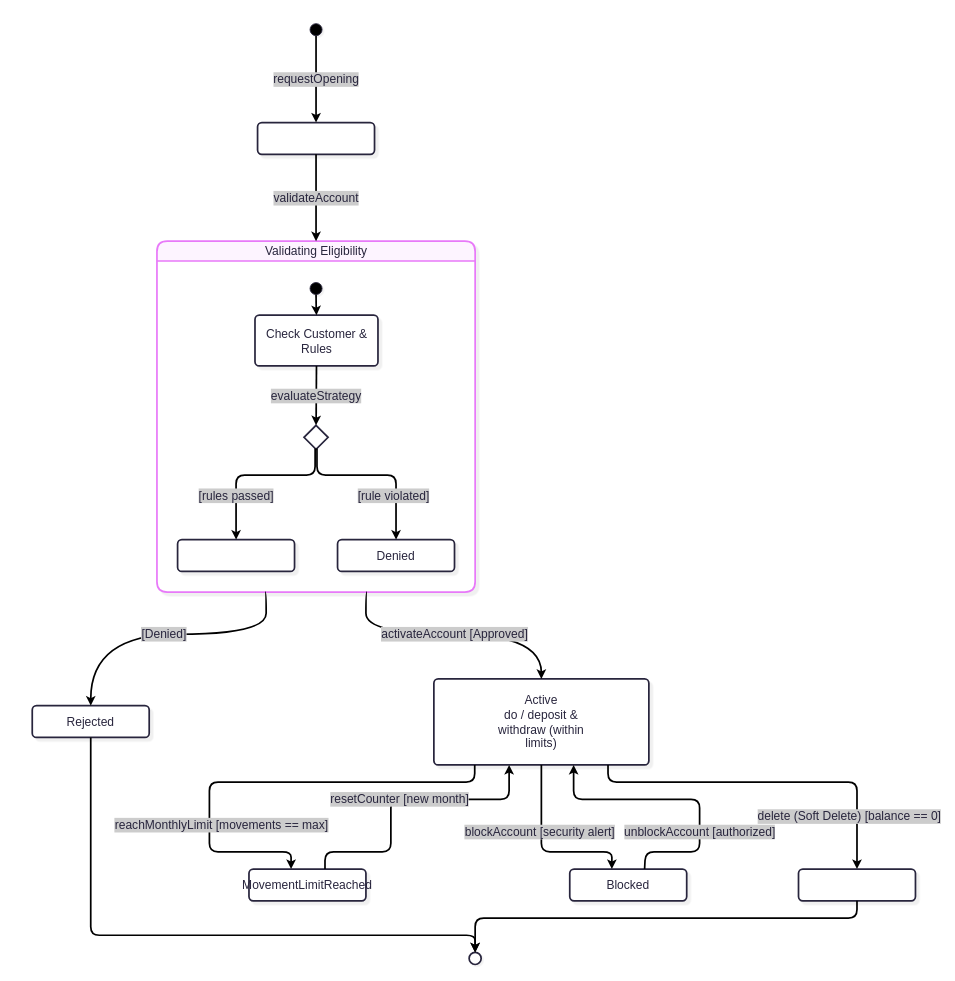
This 955x981 diagram has some shape labels left out. The shapes that lost their labels are listed below. From the top down, each one's centre as x and y in pixels, then its label:
the point at 317,139: Requested
the point at 237,556: Approved
the point at 858,886: Closed
